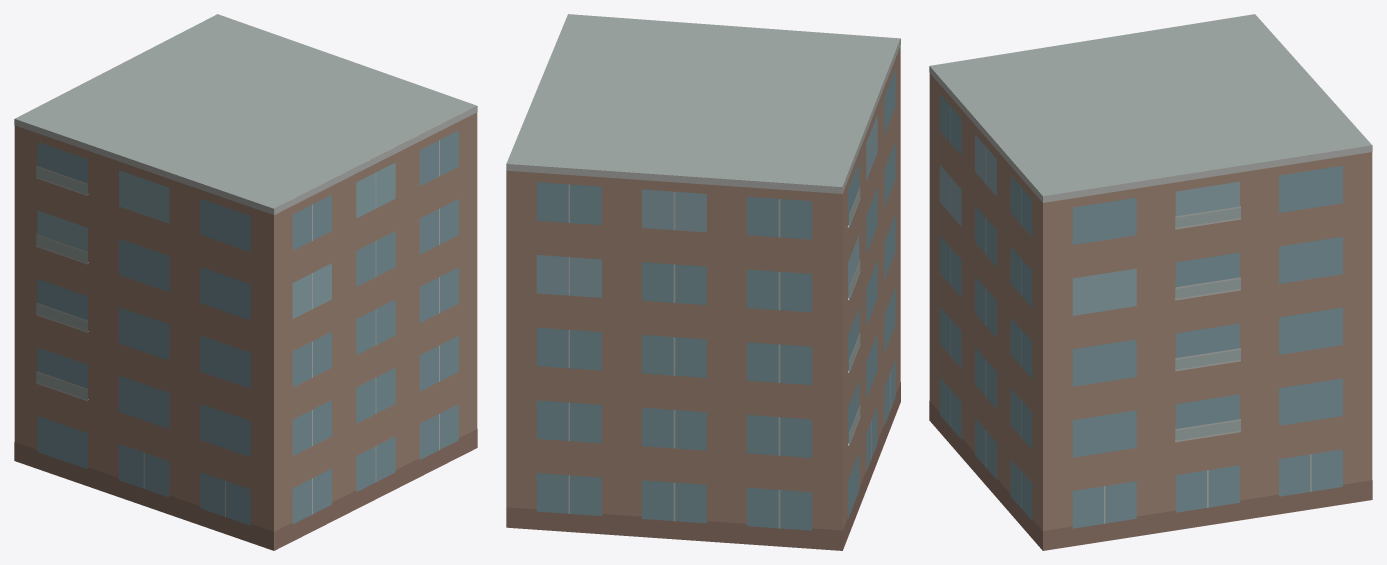
File: survey-upis-32971463.glb
3 views of the same model, side by side, from view 1: azimuth 30°, elevation 25°; view 2: azimuth 150°, elevation 25°; view 3: azimuth 270°, elevation 25° (orthographic). The views are drawn at different scales.
Parts seen in each view (by area): view 1: survey-upis-32971463.tmp; view 2: survey-upis-32971463.tmp; view 3: survey-upis-32971463.tmp.
Boxes of the visible parts, <box> form: survey-upis-32971463.tmp: <box>14,14,477,550</box>; survey-upis-32971463.tmp: <box>506,14,900,550</box>; survey-upis-32971463.tmp: <box>929,14,1372,550</box>.
Size of the model in its own units: 14.46 by 13.1 by 14.85.
